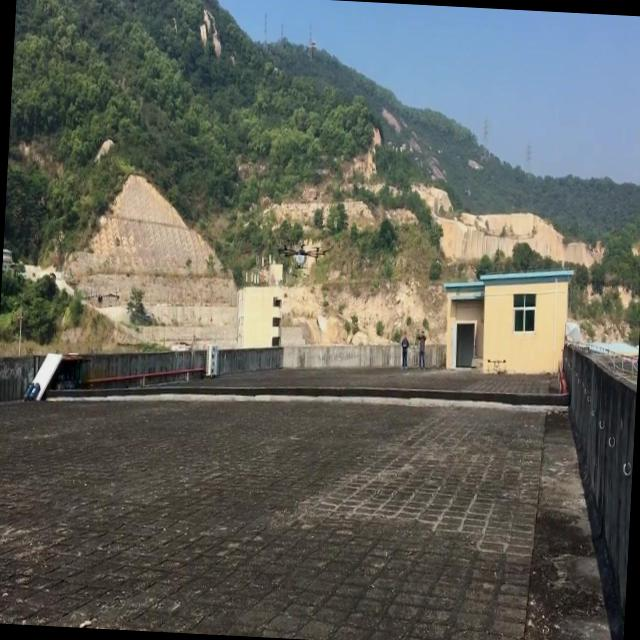drone: (273, 243, 328, 282)
